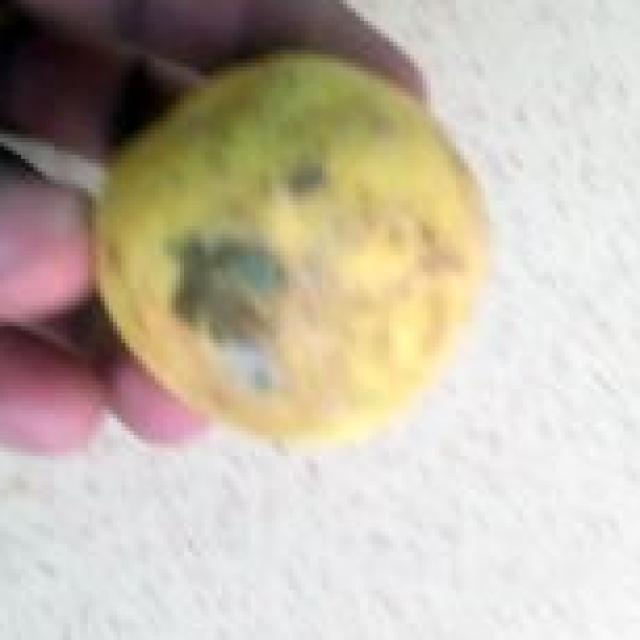Bad_Lime-0-1-day: (92, 50, 498, 456)
